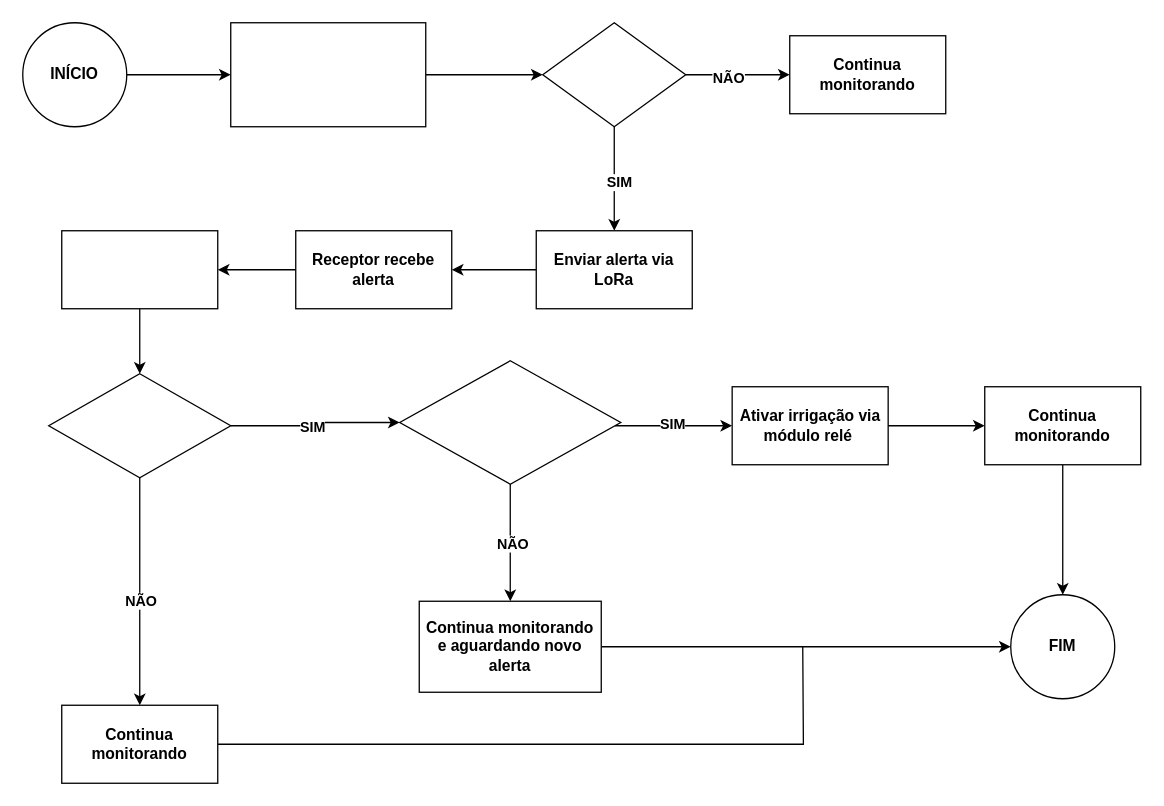
Image size: 1164x806. Some labels were removed from this diagram. The centre of each missing label's shape, as x and y in pixels:
Acionar irrigação? (Baseado em nível de risco): [509,421]
Algum risco detectado?: [613,74]
Enviar dados à nuvem: [139,269]
Ler sensores: - Temperatura - Gases - Presença de fogo: [327,74]
Risco persiste?: [139,425]
